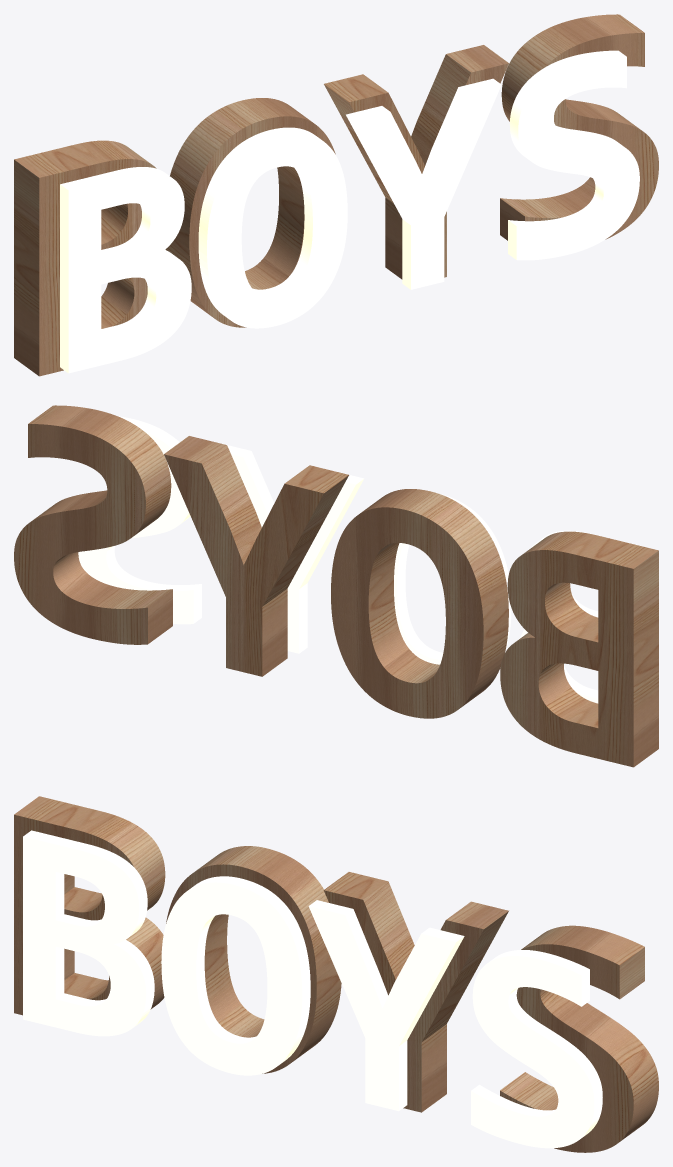
File: boy.glb
3 renders of one model, top to bottom at view 1: azimuth 30°, elevation 25°; view 2: azimuth 150°, elevation 25°; view 3: azimuth 330°, elevation 25°, orthographic.
Parts seen in each view (by area): view 1: BOY.001, BOY; view 2: BOY, BOY.001; view 3: BOY.001, BOY.
Part boxes in pixels (bbox=[...]): BOY.001: bbox=[60, 50, 639, 373]; BOY: bbox=[14, 14, 658, 376]; BOY: bbox=[14, 405, 658, 767]; BOY.001: bbox=[78, 416, 598, 703]; BOY.001: bbox=[23, 830, 602, 1148]; BOY: bbox=[14, 796, 658, 1152].
Bounding box in the file's own units: 2.16 × 0.6836 × 0.2134.
Materials: 2 (2 with a texture image).
